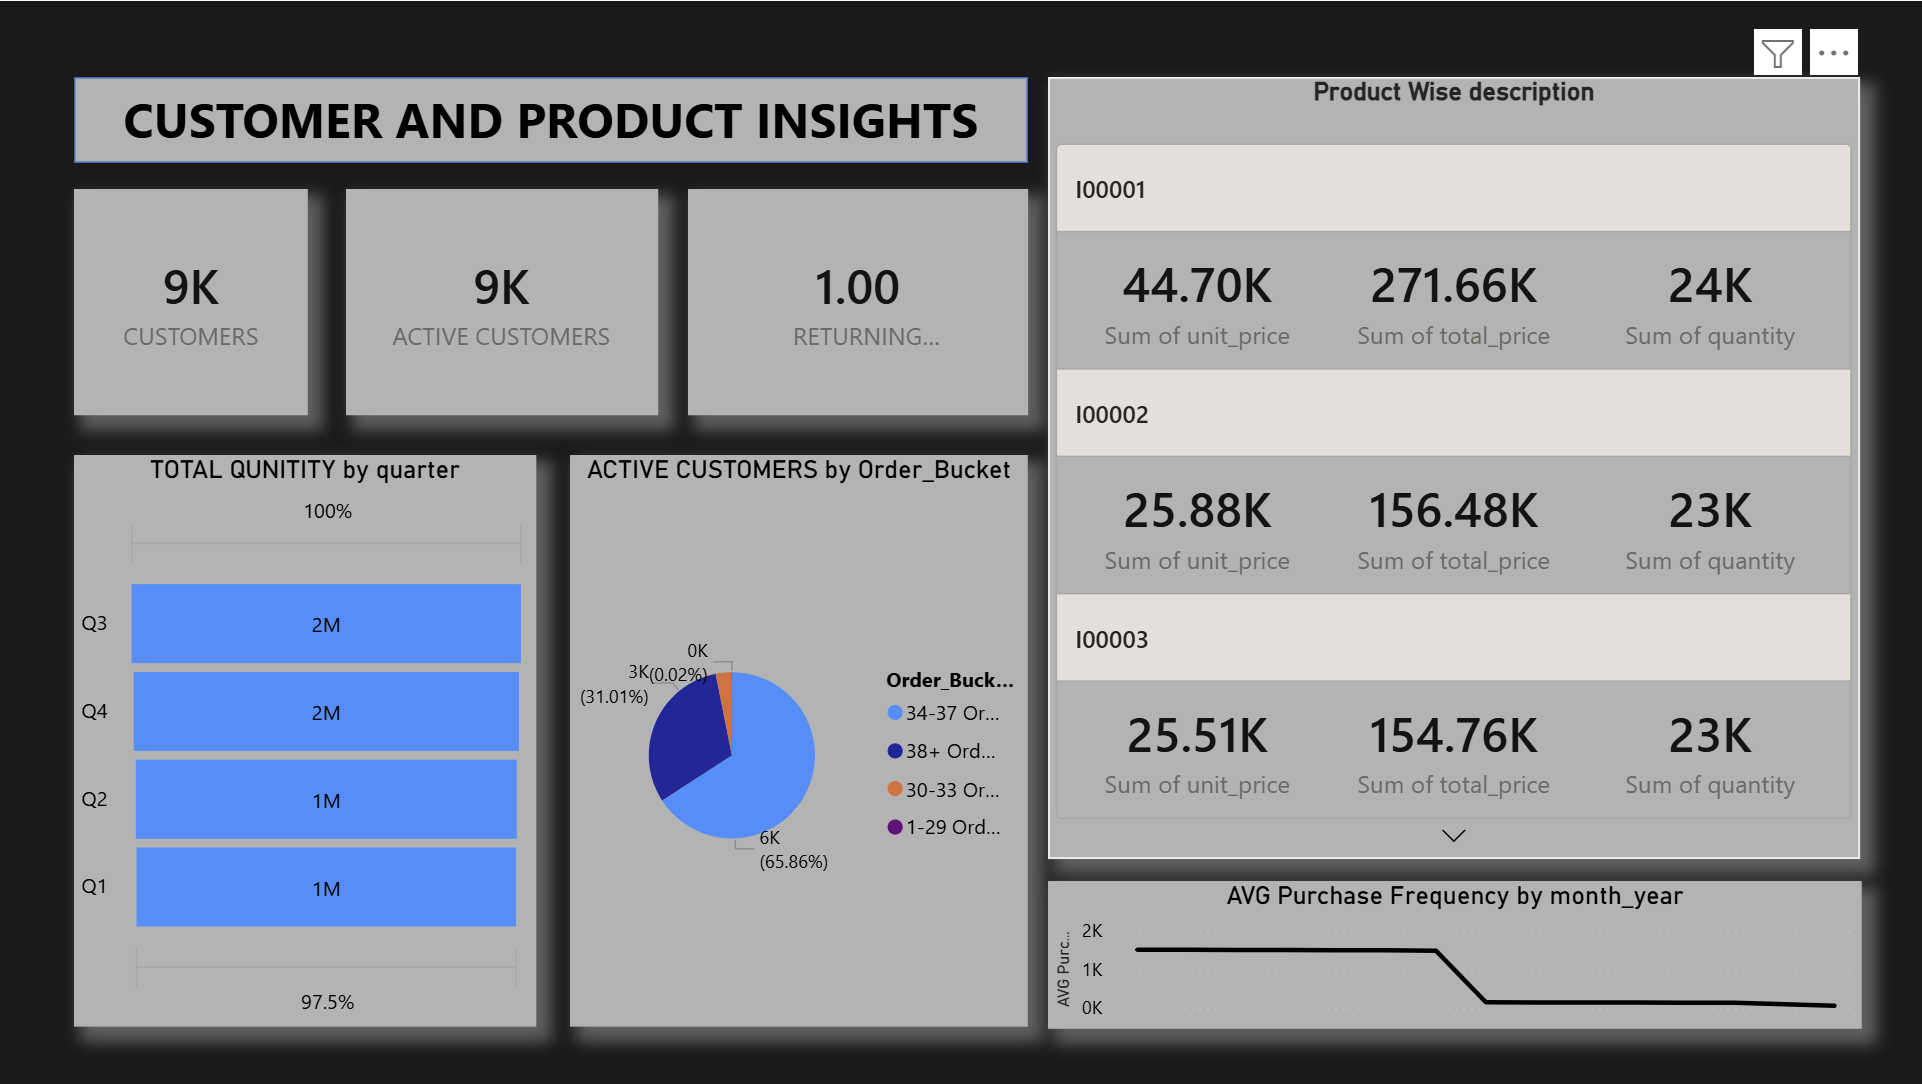

Layout of this report page (visuals, bound fields, positions):
{"tool":"powerbi","page":{"name":"Customer & Product Insights","canvas":[1280,720],"ordinal":1},"visuals":[{"type":"textbox","box":[53,50.4,632.5,57],"z":0},{"type":"cardVisual","fields":{"Data":["DAX Measure.CUSTOMERS"]},"box":[53,124.6,155.1,149.8],"z":1000},{"type":"cardVisual","fields":{"Data":["DAX Measure.ACTIVE CUSTOMERS"]},"box":[233.4,124.6,206.9,149.8],"z":2000},{"type":"cardVisual","fields":{"Data":["DAX Measure.RETURNING CUSTOMERS %"]},"box":[460.1,124.6,225.4,149.8],"z":3000},{"type":"pieChart","fields":{"Y":["DAX Measure.ACTIVE CUSTOMERS"],"Category":["customer_dim.Order_Bucket"]},"box":[381.9,301,303.6,379.2],"z":4000},{"type":"funnel","fields":{"Y":["DAX Measure.TOTAL QUNITITY"],"Category":["time_dim.quarter"]},"box":[53,301,306.3,379.2],"z":5000},{"type":"cardVisual","title":"Product Wise description","fields":{"Rows":["fact_table.item_key"],"Data":["Sum(fact_table.unit_price)","Sum(fact_table.total_price)","Sum(fact_table.quantity)"]},"box":[698.8,50.4,538.3,518.5],"z":6000},{"type":"lineChart","fields":{"Category":["time_dim.month_year"],"Y":["DAX Measure.AVG Purchase Frequency"]},"box":[698.8,583.4,539.7,98.1],"z":7000}]}

Visuals, with their boxes in screenshot pixels (x1, y1, x2, y2), scaled from the page's 1280x720 canvas onto the 1922x1084 screenshot:
textbox: [80,76,1029,162]
cardVisual - DAX Measure.CUSTOMERS: [80,188,312,413]
cardVisual - DAX Measure.ACTIVE CUSTOMERS: [350,188,661,413]
cardVisual - DAX Measure.RETURNING CUSTOMERS %: [691,188,1029,413]
pieChart - DAX Measure.ACTIVE CUSTOMERS x customer_dim.Order_Bucket: [573,453,1029,1024]
funnel - DAX Measure.TOTAL QUNITITY x time_dim.quarter: [80,453,540,1024]
"Product Wise description" cardVisual: [1049,76,1858,857]
lineChart - time_dim.month_year x DAX Measure.AVG Purchase Frequency: [1049,878,1860,1026]
